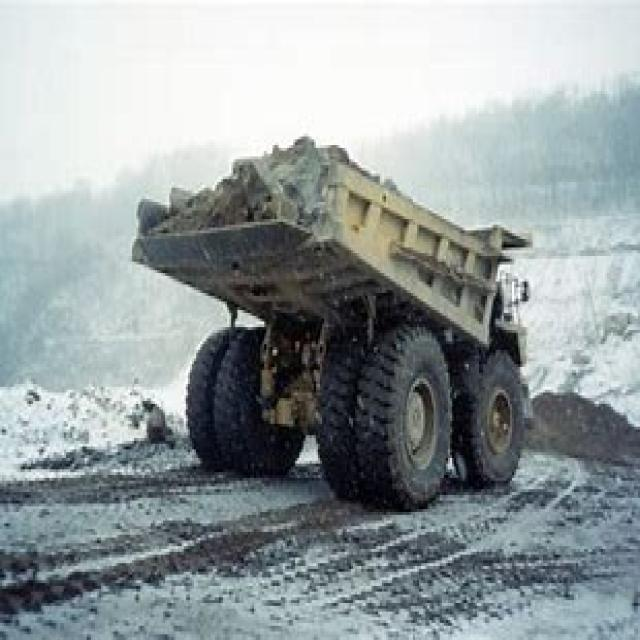dump_truck: (121, 128, 564, 515)
